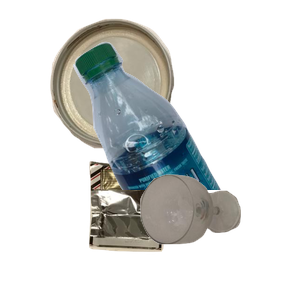glass: (138, 172, 300, 300)
metal: (47, 16, 214, 157)
plastic: (71, 39, 300, 219)
trash: (86, 158, 242, 300)
